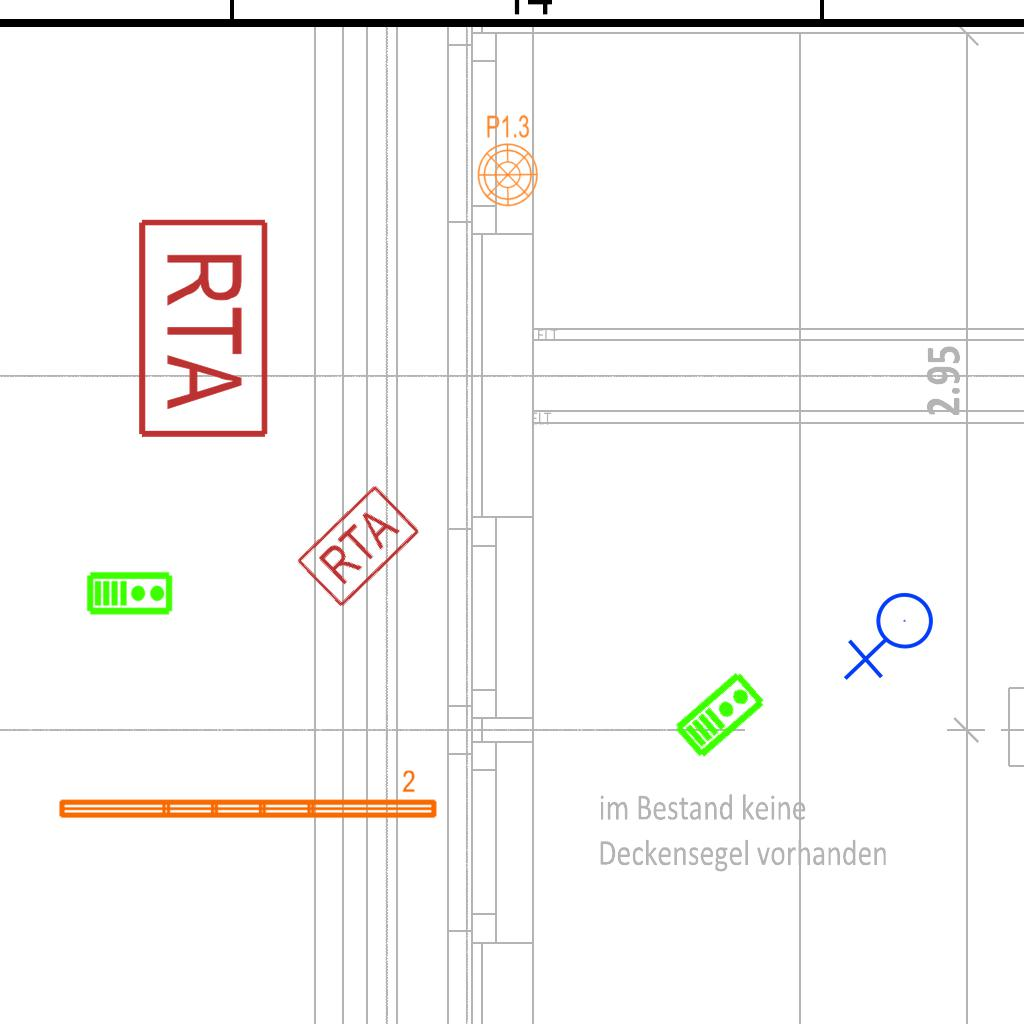Ambulanz_Pendelleuchte_LED: (54, 768, 441, 824)
Aufbaurundleuchte_LED_Treppenhaus: (476, 106, 545, 208)
Elektroanschluss_allgemein_230V_Geraeteanschlussdose_230V: (843, 591, 942, 685)
Gegensprechanlage_mit_Video: (670, 667, 769, 761), (86, 569, 174, 616)
Ruf-und_Abstelltaster: (134, 212, 272, 440), (292, 482, 423, 612)
